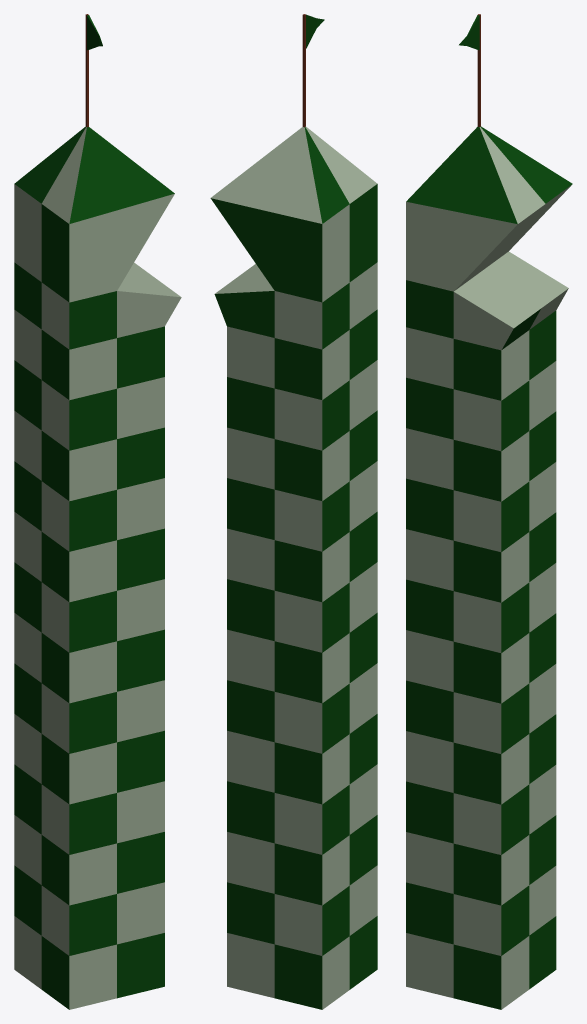
File: stadiumtower2.fbx
3 renders of one model, left to right at view 1: azimuth 30°, elevation 25°; view 2: azimuth 150°, elevation 25°; view 3: azimuth 330°, elevation 25°, orthographic.
Visible parts, largest first — view 1: Cube.001; view 2: Cube.001; view 3: Cube.001.
Boxes of the visible parts, bbox=[...] form: Cube.001: bbox=[14, 14, 181, 1009]; Cube.001: bbox=[210, 14, 377, 1009]; Cube.001: bbox=[406, 14, 572, 1009].
Size of the model in its own units: 275 by 2298 by 261.
